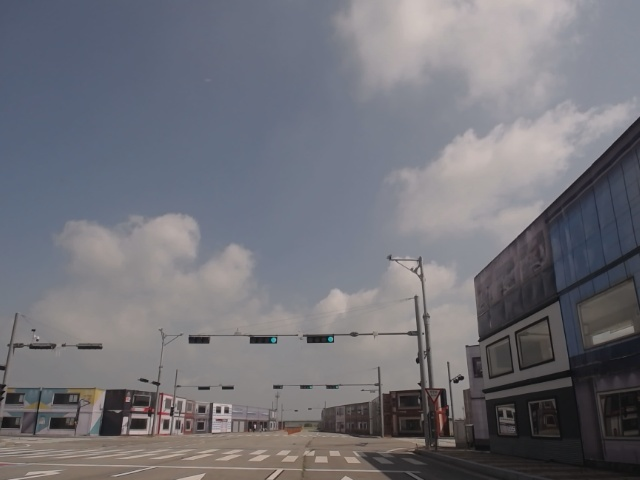straight_green_4: (249, 335, 281, 345), (305, 336, 336, 344)
